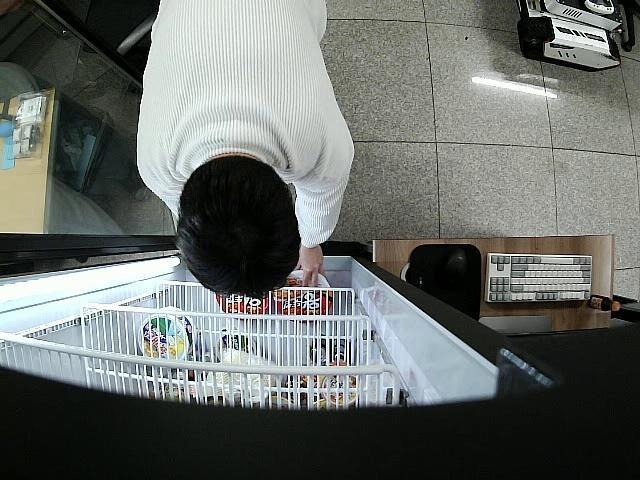10_wangTtukkeong: (272, 271, 334, 322)
